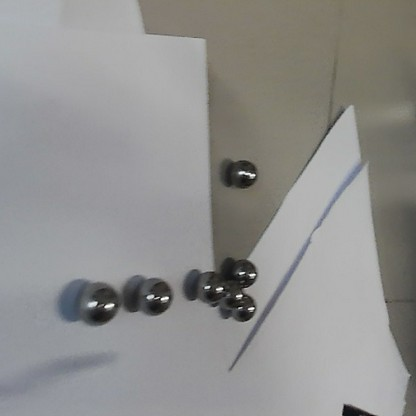ironball: (71, 279, 122, 326), (133, 274, 171, 319), (192, 269, 227, 302), (227, 156, 261, 189), (227, 292, 257, 323), (227, 259, 259, 288)
